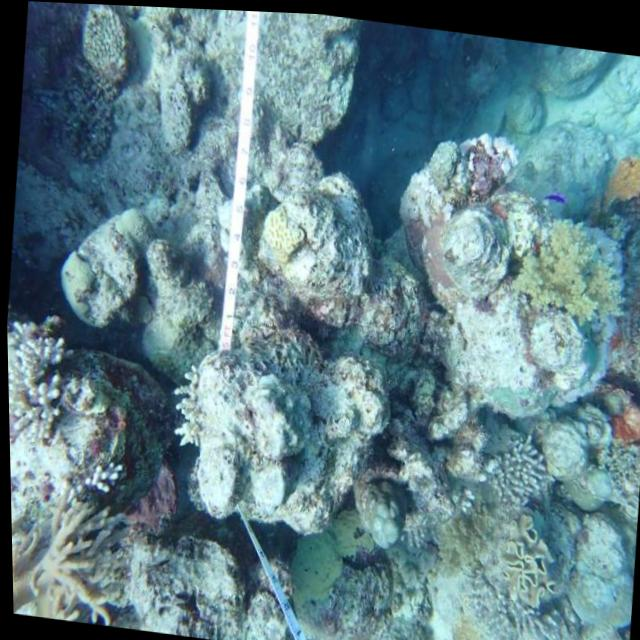Bleached Coral: (441, 550, 578, 640), (464, 404, 568, 520), (5, 304, 78, 410), (160, 360, 211, 462), (64, 443, 131, 499)
